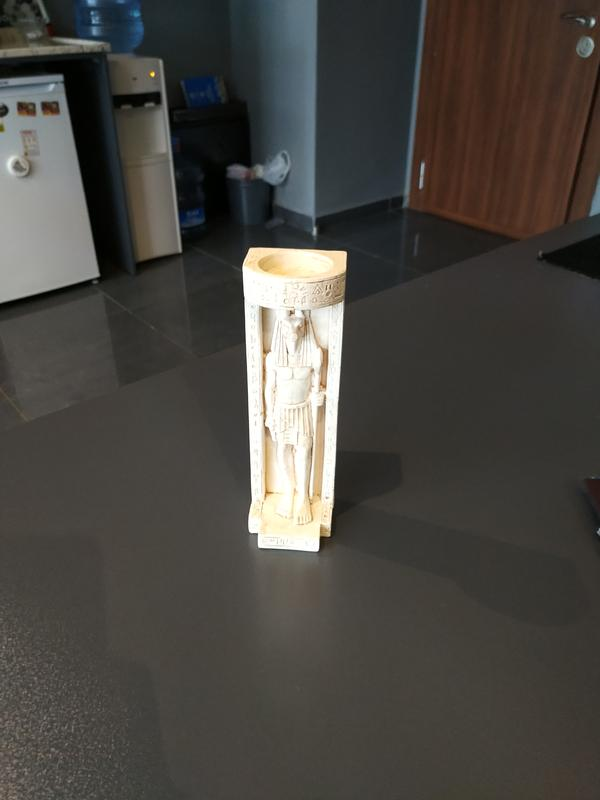heykel: (235, 238, 361, 565)
